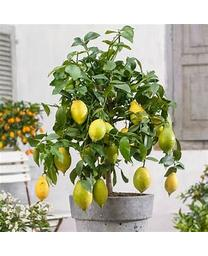lemon: (73, 179, 93, 212), (53, 144, 72, 175), (94, 177, 109, 208), (163, 170, 178, 199), (89, 117, 107, 141), (133, 168, 151, 192), (72, 100, 88, 125), (160, 128, 175, 153), (36, 177, 49, 199)
